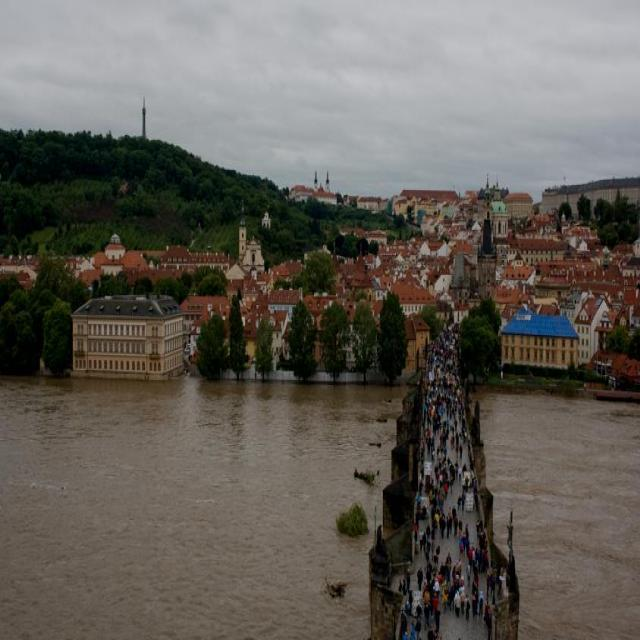flood: (0, 354, 397, 637), (488, 376, 637, 636)
